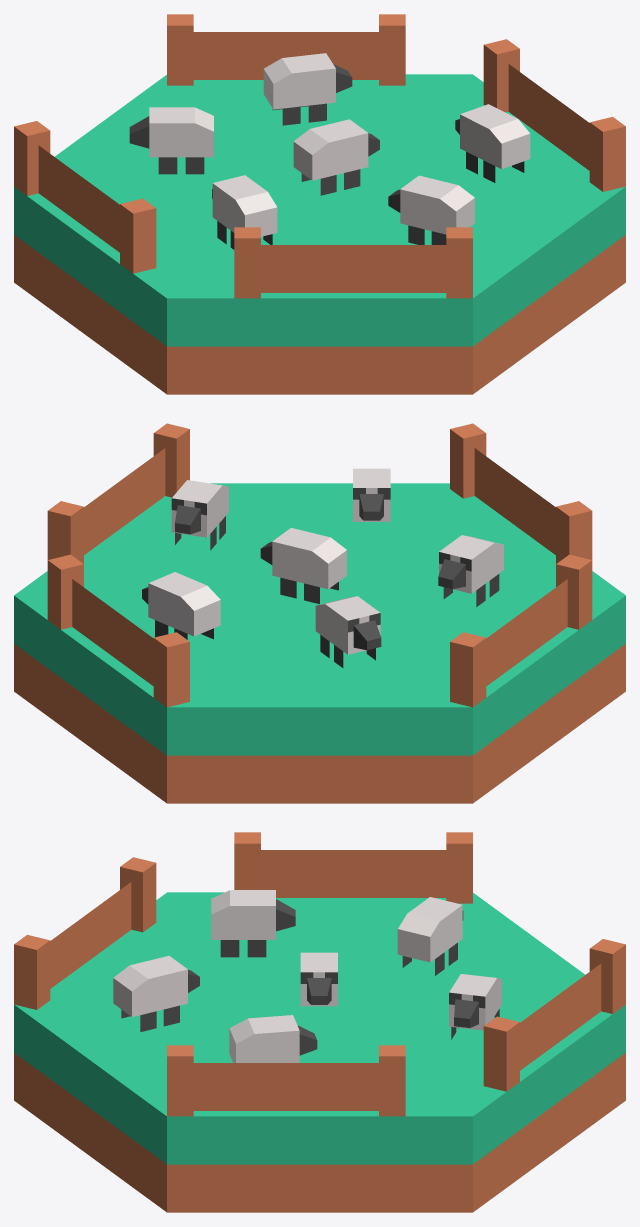
The model's file is Building Sheep.glb.
3 views of the same model, one above another, from view 1: azimuth 30°, elevation 25°; view 2: azimuth 150°, elevation 25°; view 3: azimuth 270°, elevation 25° (orthographic).
Parts seen in each view (by area): view 1: building_sheep, fence.003, fence.002, fence, fence.001, sheep.005, sheep.003, sheep, sheep.001, sheep.002, sheep.004; view 2: building_sheep, fence, fence.002, fence.003, fence.001, sheep.003, sheep.005, sheep, sheep.004, sheep.002, sheep.001; view 3: building_sheep, fence.001, fence, fence.002, fence.003, sheep.001, sheep.004, sheep, sheep.002, sheep.005, sheep.003.
Boxes of the visible parts, box(x1,y1,x2,y2) form: building_sheep: box(14, 74, 625, 394); fence.003: box(234, 227, 472, 298); fence.002: box(167, 14, 405, 85); fence: box(14, 121, 156, 273); fence.001: box(483, 39, 625, 191); sheep.005: box(263, 53, 352, 125); sheep.003: box(293, 119, 379, 195); sheep: box(129, 107, 213, 174); sheep.001: box(388, 175, 474, 244); sheep.002: box(455, 104, 530, 182); sheep.004: box(212, 175, 277, 249); building_sheep: box(14, 483, 625, 803); fence: box(450, 554, 592, 707); fence.002: box(47, 554, 189, 707); fence.003: box(450, 423, 592, 563); fence.001: box(47, 423, 189, 563); sheep.003: box(260, 528, 346, 604); sheep.005: box(142, 572, 220, 639); sheep: box(315, 596, 381, 667); sheep.004: box(438, 535, 503, 606); sheep.002: box(171, 480, 228, 550); sheep.001: box(353, 468, 390, 521); building_sheep: box(14, 892, 625, 1212); fence.001: box(167, 1045, 405, 1116); fence: box(234, 832, 472, 903); fence.002: box(483, 939, 625, 1091); fence.003: box(14, 857, 156, 1009); sheep.001: box(113, 956, 199, 1031); sheep.004: box(211, 890, 295, 957); sheep: box(397, 897, 463, 975); sheep.002: box(229, 1015, 317, 1062); sheep.005: box(449, 974, 501, 1039); sheep.003: box(300, 952, 337, 1006).
Size of the model in its own units: 1 by 0.325 by 1.15.
